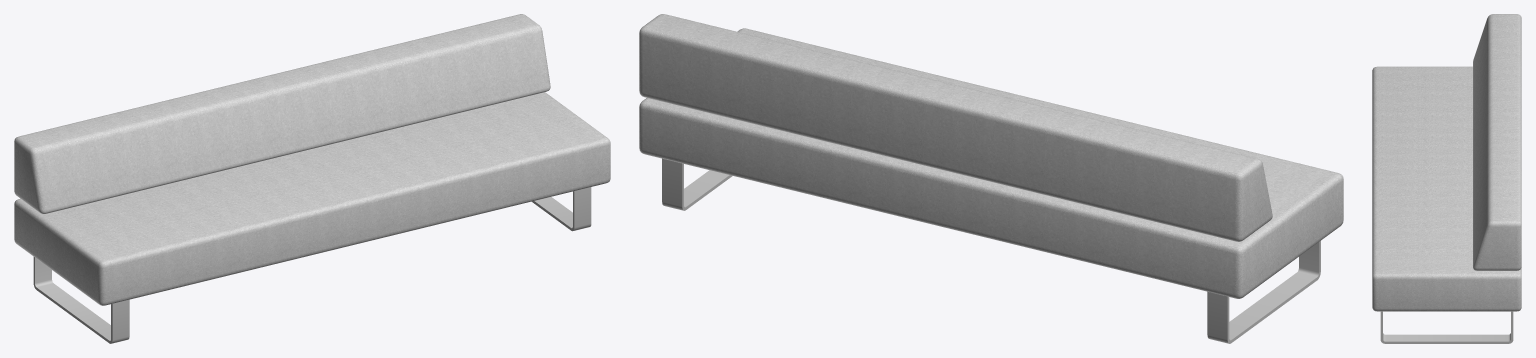
Rendered from D_Bench_014.fbx.
3 views of the same model, side by side, from view 1: azimuth 30°, elevation 25°; view 2: azimuth 150°, elevation 25°; view 3: azimuth 270°, elevation 25° (orthographic). The views are drawn at different scales.
Parts seen in each view (by area): view 1: D_Bench_014; view 2: D_Bench_014; view 3: D_Bench_014.
Boxes of the visible parts, left/top/right/bottom form: D_Bench_014: left=14, top=14, right=610, bottom=343; D_Bench_014: left=639, top=14, right=1343, bottom=343; D_Bench_014: left=1372, top=14, right=1521, bottom=343.
Bounding box in the file's own units: 2.99 × 0.85 × 0.9.
